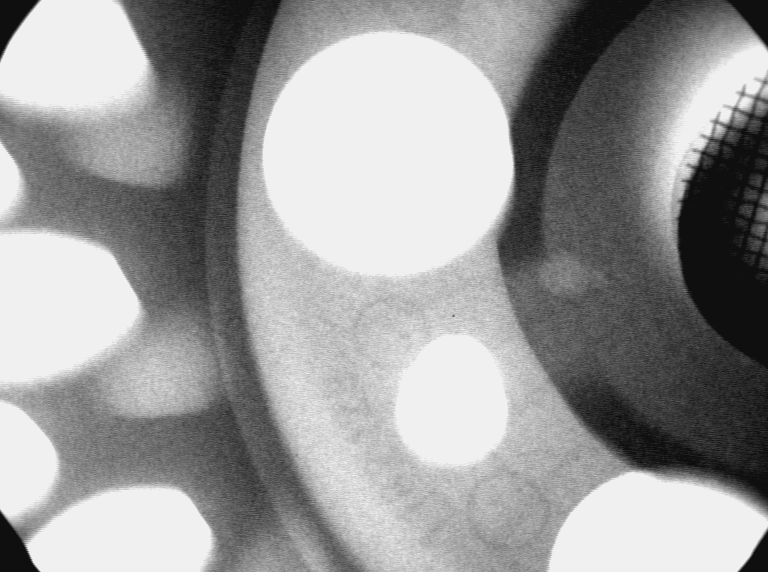defect: (543, 244, 613, 302)
